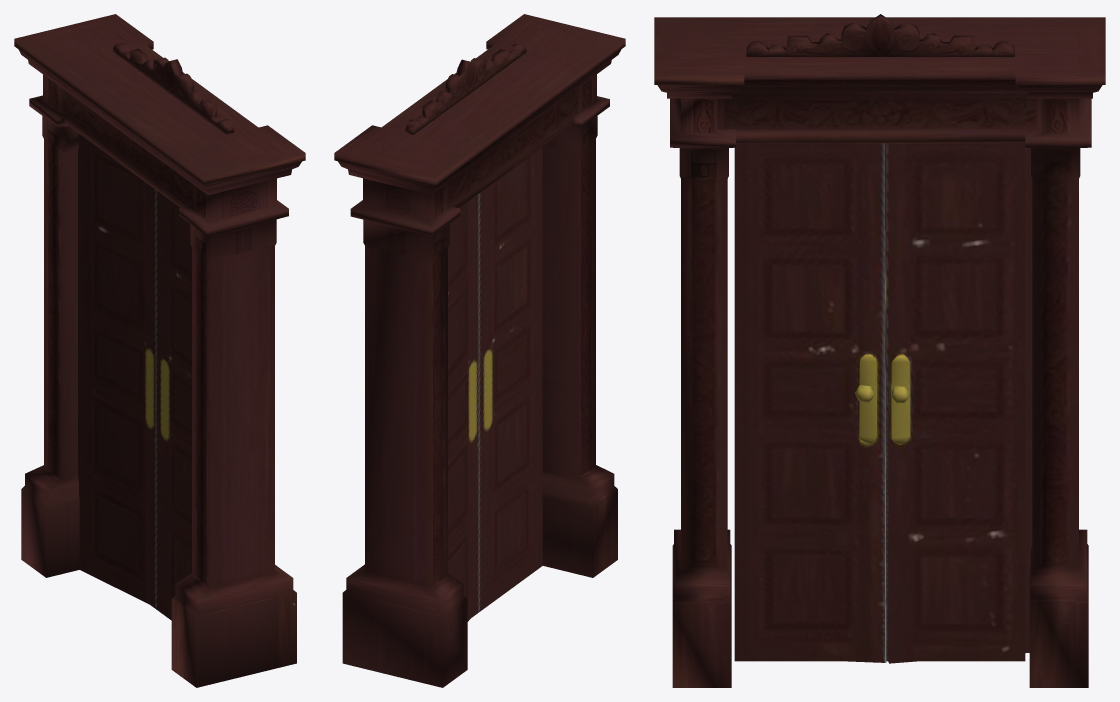
The model's file is Arch_Door_Interior.glb.
3 renders of one model, left to right at view 1: azimuth 30°, elevation 25°; view 2: azimuth 150°, elevation 25°; view 3: azimuth 270°, elevation 25°, orthographic. The views are drawn at different scales.
Parts seen in each view (by area): view 1: tripo_node_7b1c935a-cb68-4e1a-8c8a-37e45c74db7e; view 2: tripo_node_7b1c935a-cb68-4e1a-8c8a-37e45c74db7e; view 3: tripo_node_7b1c935a-cb68-4e1a-8c8a-37e45c74db7e.
Part boxes in pixels (left/top/right/bottom): tripo_node_7b1c935a-cb68-4e1a-8c8a-37e45c74db7e: left=14, top=14, right=305, bottom=687; tripo_node_7b1c935a-cb68-4e1a-8c8a-37e45c74db7e: left=334, top=14, right=625, bottom=687; tripo_node_7b1c935a-cb68-4e1a-8c8a-37e45c74db7e: left=654, top=14, right=1105, bottom=687.
Size of the model in its own units: 0.4068 by 2.1 by 1.32.
Materials: 1 (1 with a texture image).
